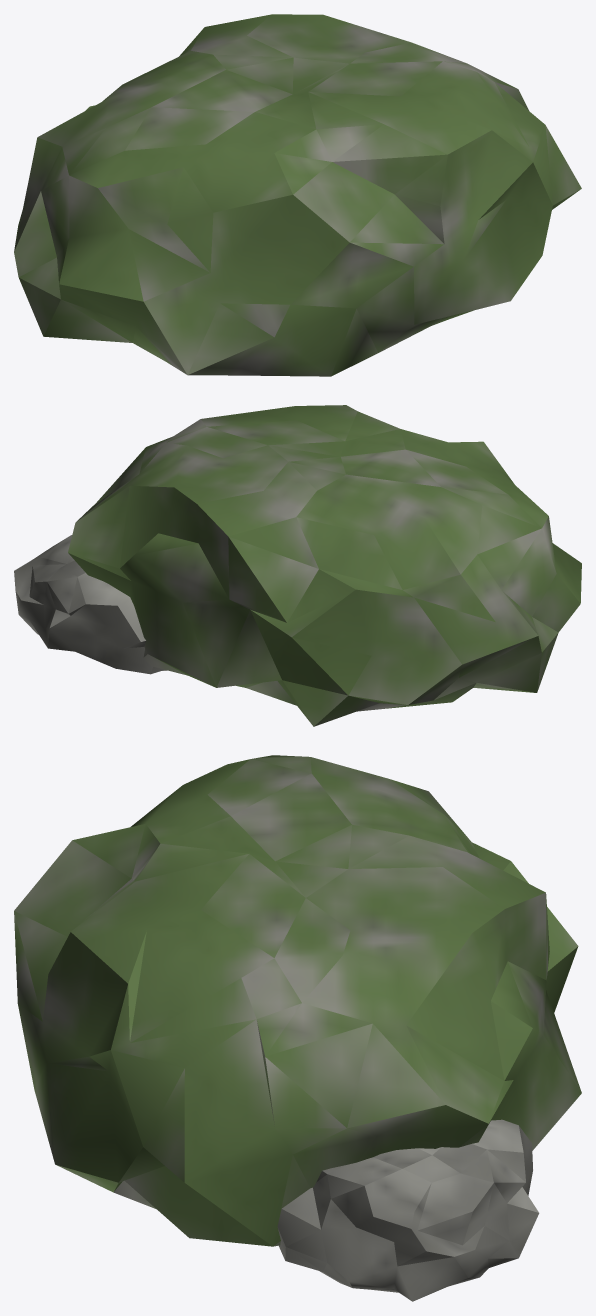
The model's file is SM_Boulder01.fbx.
3 renders of one model, top to bottom at view 1: azimuth 30°, elevation 25°; view 2: azimuth 150°, elevation 25°; view 3: azimuth 270°, elevation 25°, orthographic. The views are drawn at different scales.
Parts seen in each view (by area): view 1: SM_Boulder01; view 2: SM_Boulder01; view 3: SM_Boulder01.
Part boxes in pixels (box(x1,y1,x2,y2)): SM_Boulder01: box(14, 14, 581, 376); SM_Boulder01: box(14, 405, 581, 726); SM_Boulder01: box(14, 755, 581, 1301).
Size of the model in its own units: 9.54 by 3.49 by 6.65.
1 material, 1 textured.
